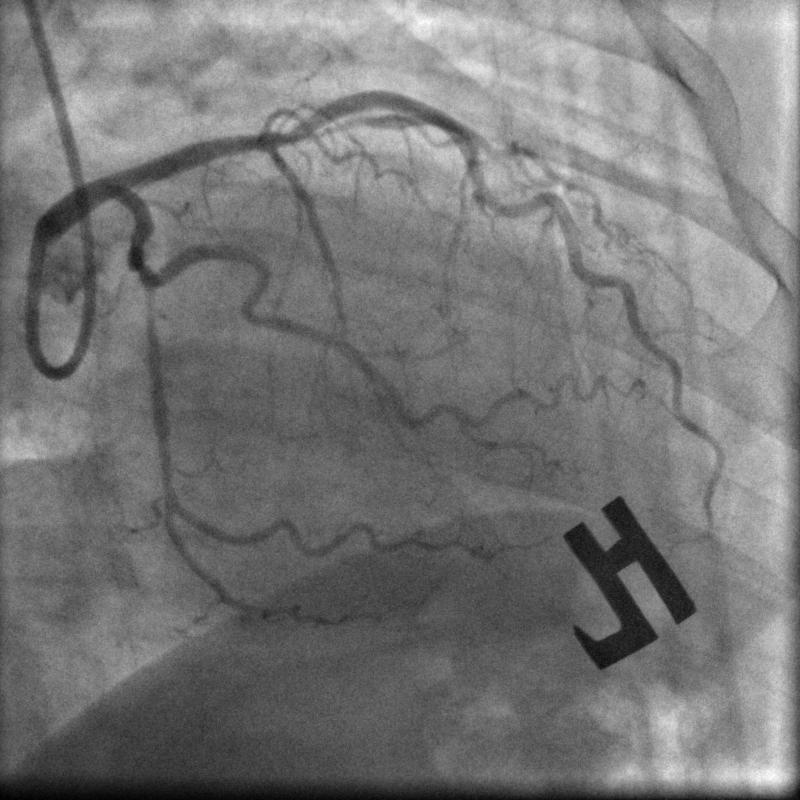Stenosis: (130, 228, 164, 282)
